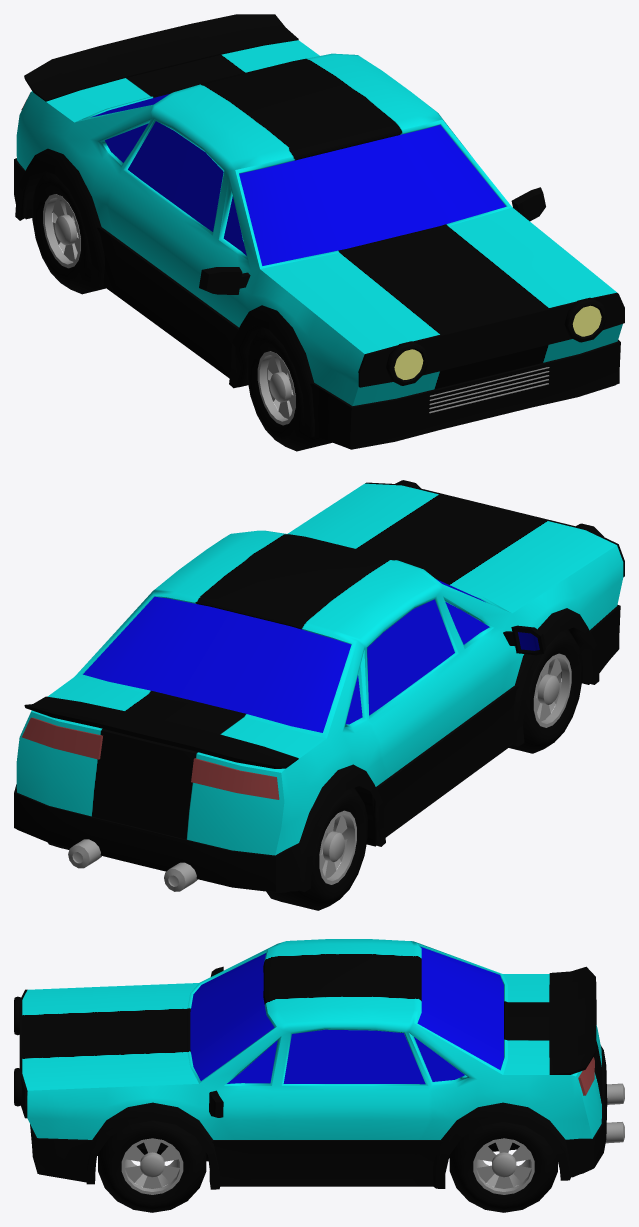
The model's file is Muscle Evolution2 Black LineBlackCyan Blue LightGrey.glb.
3 views of the same model, one above another, from view 1: azimuth 30°, elevation 25°; view 2: azimuth 150°, elevation 25°; view 3: azimuth 270°, elevation 25° (orthographic). The views are drawn at different scales.
Parts seen in each view (by area): view 1: evo2_body2_f1_dupl, evo2_frontGlass_f1_dupl, evo2_sill2_f1_dupl, evo2_spoiler2_f1_dupl, evo2_front_square2_f1_dupl, evo2_glasseBigR_f1_dupl, evo2_mudguardFR_f1_dupl, evo2_mudguardbR_f1_dupl, evo2_tire_rf1_f1_dupl, evo2_tire_rf_f1_dupl, evo2_rim_A_rf_f1_dupl, evo2_rim_A_rb_f1_dupl (+9 smaller); view 2: evo2_body2_f1_dupl, evo2_BackGlassGlass_f1_dupl, evo2_sill2_f1_dupl, evo2_spoiler2_f1_dupl, evo2_glasseBigR_f1_dupl, evo2_tire_rf_f1_dupl, evo2_mudguardbR_f1_dupl, evo2_mudguardFR_f1_dupl, evo2_tire_rf1_f1_dupl, evo2_rim_A_rf_f1_dupl, evo2_rim_A_rb_f1_dupl, evo2_redlightR2_f1_dupl (+5 smaller); view 3: evo2_body2_f1_dupl, evo2_sill2_f1_dupl, evo2_BackGlassGlass_f1_dupl, evo2_glasseBigL_f1_dupl, evo2_frontGlass_f1_dupl, evo2_tire_lf_f1_dupl, evo2_tire_lb_f1_dupl, evo2_spoiler2_f1_dupl, evo2_mudguardBL_f1_dupl, evo2_mudguardFL_f1_dupl, evo2_rim_A_lf_f1_dupl, evo2_rim_A_lb_f1_dupl (+4 smaller).
Part boxes in pixels (left/top/right/bottom): evo2_body2_f1_dupl: left=16, top=40, right=622, bottom=405; evo2_frontGlass_f1_dupl: left=239, top=125, right=505, bottom=265; evo2_sill2_f1_dupl: left=14, top=158, right=620, bottom=449; evo2_spoiler2_f1_dupl: left=24, top=14, right=298, bottom=101; evo2_front_square2_f1_dupl: left=358, top=292, right=624, bottom=387; evo2_glasseBigR_f1_dupl: left=128, top=121, right=223, bottom=231; evo2_mudguardFR_f1_dupl: left=229, top=305, right=314, bottom=437; evo2_mudguardbR_f1_dupl: left=15, top=148, right=104, bottom=286; evo2_tire_rf1_f1_dupl: left=247, top=327, right=331, bottom=451; evo2_tire_rf_f1_dupl: left=32, top=171, right=105, bottom=294; evo2_rim_A_rf_f1_dupl: left=257, top=351, right=295, bottom=425; evo2_rim_A_rb_f1_dupl: left=43, top=194, right=80, bottom=268; evo2_body2_f1_dupl: left=16, top=483, right=623, bottom=855; evo2_BackGlassGlass_f1_dupl: left=83, top=596, right=351, bottom=732; evo2_sill2_f1_dupl: left=14, top=605, right=620, bottom=891; evo2_spoiler2_f1_dupl: left=24, top=696, right=298, bottom=768; evo2_glasseBigR_f1_dupl: left=367, top=599, right=454, bottom=715; evo2_tire_rf_f1_dupl: left=266, top=787, right=367, bottom=910; evo2_mudguardbR_f1_dupl: left=299, top=764, right=385, bottom=891; evo2_mudguardFR_f1_dupl: left=512, top=608, right=599, bottom=746; evo2_tire_rf1_f1_dupl: left=509, top=629, right=582, bottom=753; evo2_rim_A_rf_f1_dupl: left=533, top=653, right=571, bottom=727; evo2_rim_A_rb_f1_dupl: left=319, top=810, right=356, bottom=884; evo2_redlightR2_f1_dupl: left=191, top=758, right=279, bottom=799; evo2_body2_f1_dupl: left=22, top=939, right=602, bottom=1159; evo2_sill2_f1_dupl: left=30, top=1045, right=607, bottom=1186; evo2_BackGlassGlass_f1_dupl: left=417, top=946, right=503, bottom=1070; evo2_glasseBigL_f1_dupl: left=283, top=1029, right=425, bottom=1084; evo2_frontGlass_f1_dupl: left=190, top=953, right=274, bottom=1080; evo2_tire_lf_f1_dupl: left=98, top=1120, right=206, bottom=1212; evo2_tire_lb_f1_dupl: left=449, top=1122, right=557, bottom=1212; evo2_spoiler2_f1_dupl: left=549, top=966, right=596, bottom=1074; evo2_mudguardBL_f1_dupl: left=433, top=1102, right=570, bottom=1188; evo2_mudguardFL_f1_dupl: left=86, top=1102, right=220, bottom=1189; evo2_rim_A_lf_f1_dupl: left=121, top=1138, right=183, bottom=1194; evo2_rim_A_lb_f1_dupl: left=473, top=1138, right=534, bottom=1194.
Bounding box in the file's own units: 177 × 112 × 331.
Materials: 7 (1 with a texture image).
